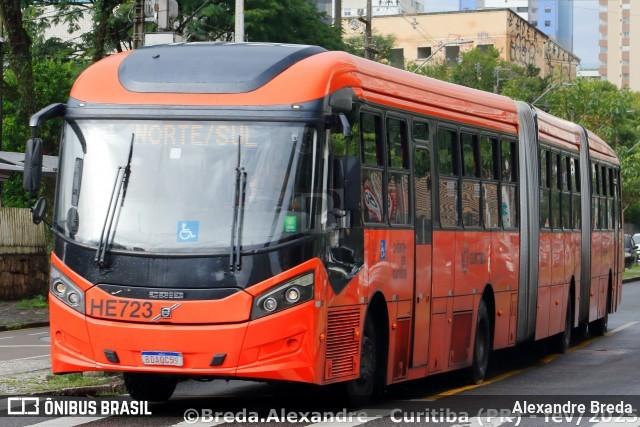NORTE SUL: (129, 120, 261, 151)
